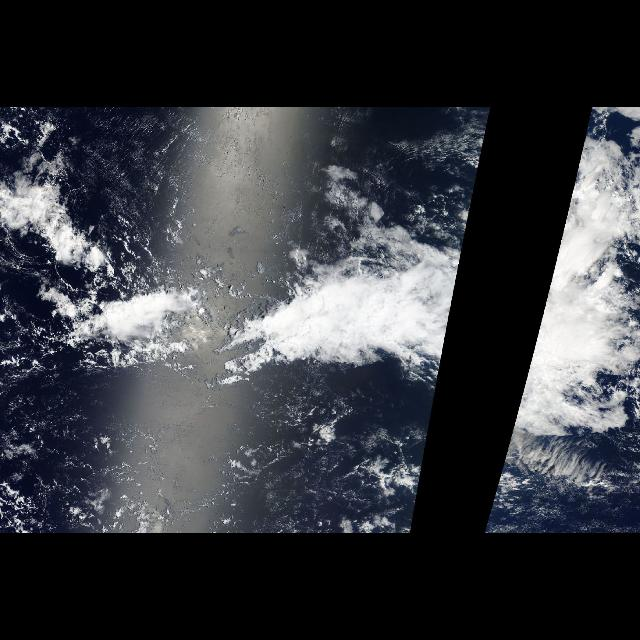Sugar: (81, 109, 317, 259)
